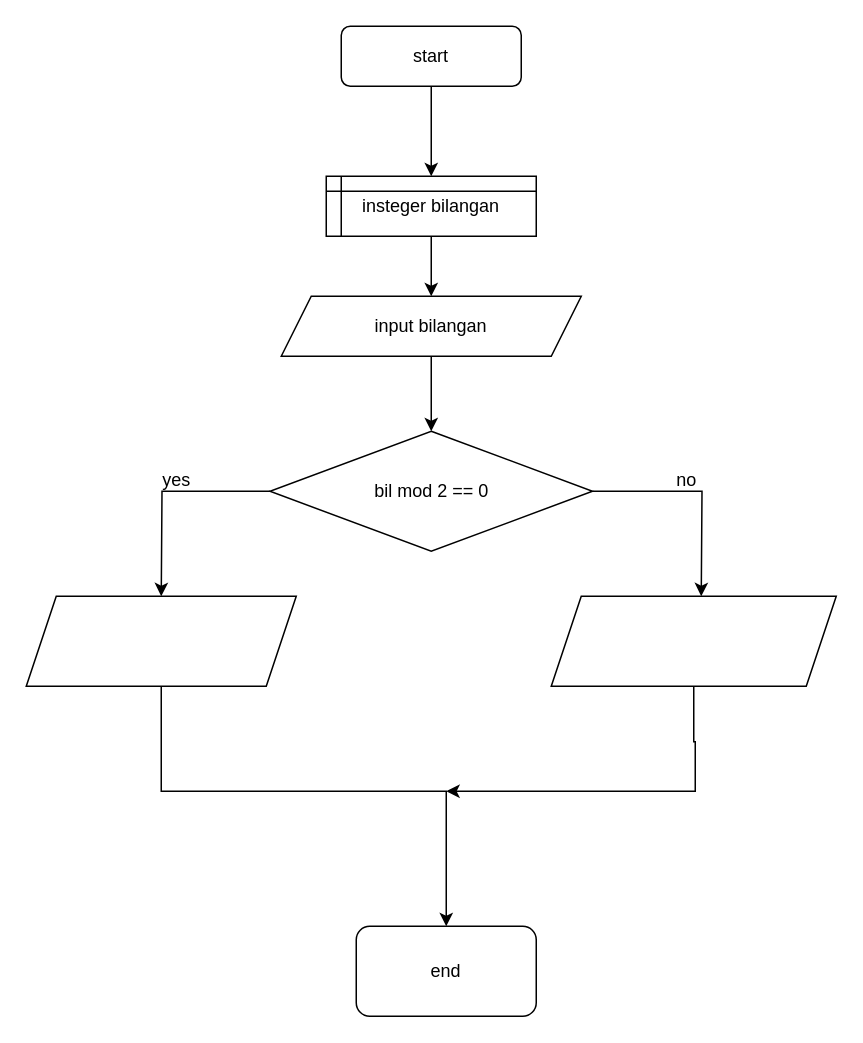
This 863x1043 diagram has some shape labels left out. The centre of each missing label's shape, as x and y in pixels:
"output bilangan ganjil" belongs at pixel 160 640.
"output bilangan genap" belongs at pixel 693 640.
